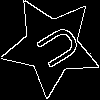U: (26, 21, 83, 76)
